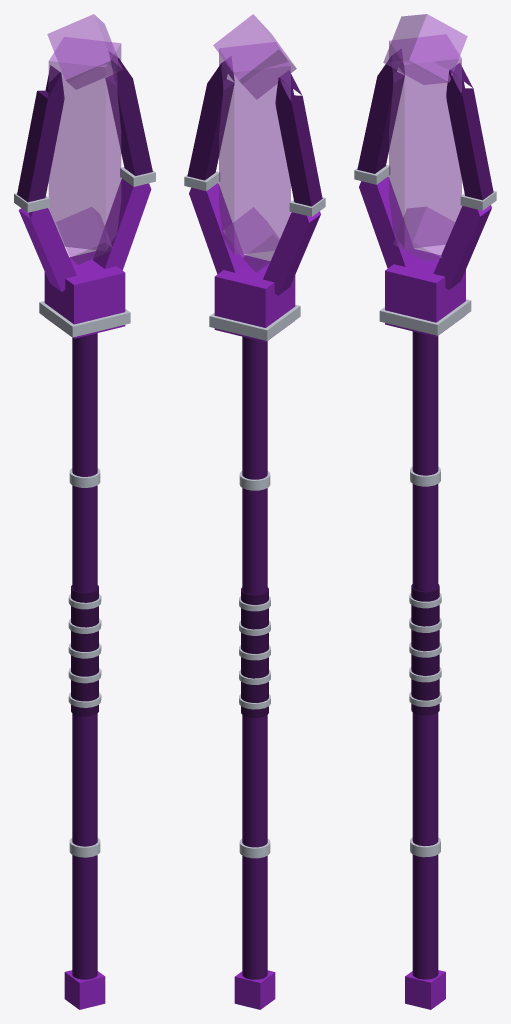
3 renders of one model, left to right at view 1: azimuth 30°, elevation 25°; view 2: azimuth 150°, elevation 25°; view 3: azimuth 330°, elevation 25°, orthographic.
Visible parts, largest first — view 1: runic-focus; view 2: runic-focus; view 3: runic-focus.
Part boxes in pixels (x1,y1,x2,y2): runic-focus: (14,14,155,1009); runic-focus: (184,14,325,1009); runic-focus: (354,14,496,1009).
Bounding box in the file's own units: 0.2134 × 1.57 × 0.1251.
